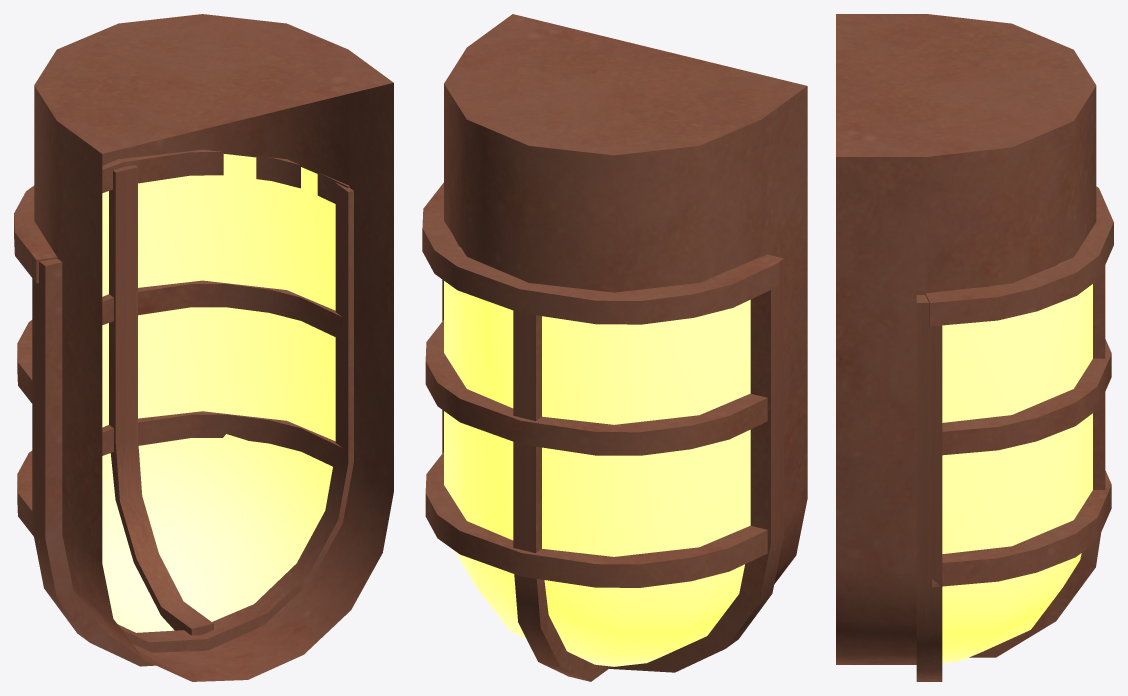
Rendered from Marine_WallMounted_HalfBulb_Chopped_2Hor.fbx.
The picture shows the model from 3 angles, left to right: view 1: azimuth 30°, elevation 25°; view 2: azimuth 150°, elevation 25°; view 3: azimuth 270°, elevation 25°; orthographic projection.
Visible parts, largest first — view 1: Marine_WallMounted_HalfBulb_Chopped_2Hor; view 2: Marine_WallMounted_HalfBulb_Chopped_2Hor; view 3: Marine_WallMounted_HalfBulb_Chopped_2Hor.
Boxes of the visible parts, x1,y1,x2,y2 form: Marine_WallMounted_HalfBulb_Chopped_2Hor: [14, 14, 393, 681]; Marine_WallMounted_HalfBulb_Chopped_2Hor: [422, 14, 807, 681]; Marine_WallMounted_HalfBulb_Chopped_2Hor: [836, 14, 1113, 681].
Size of the model in its own units: 21.54 by 35.68 by 15.59.
2 materials, 1 textured.
